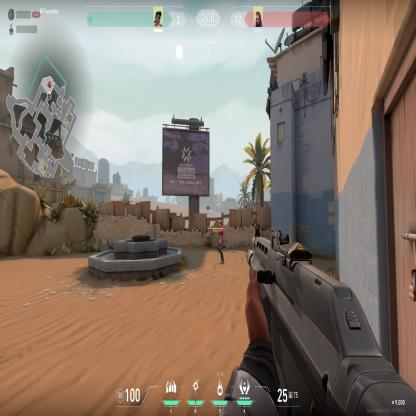enemy: (212, 220, 226, 264)
